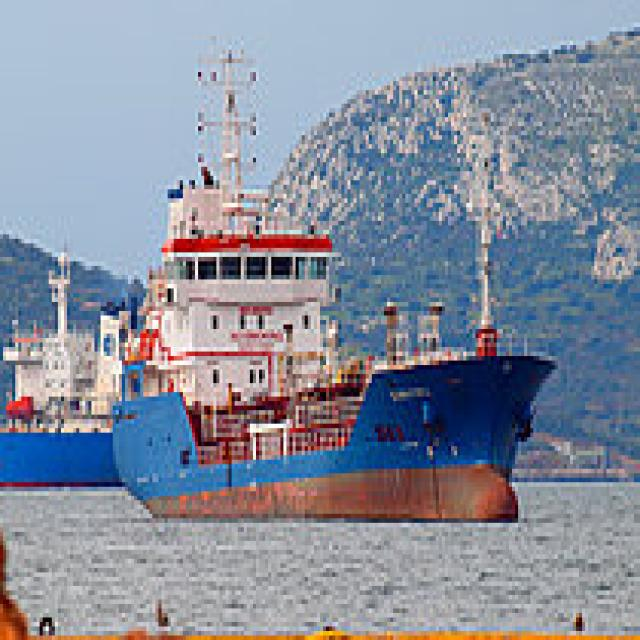Tanker: (103, 22, 558, 523)
